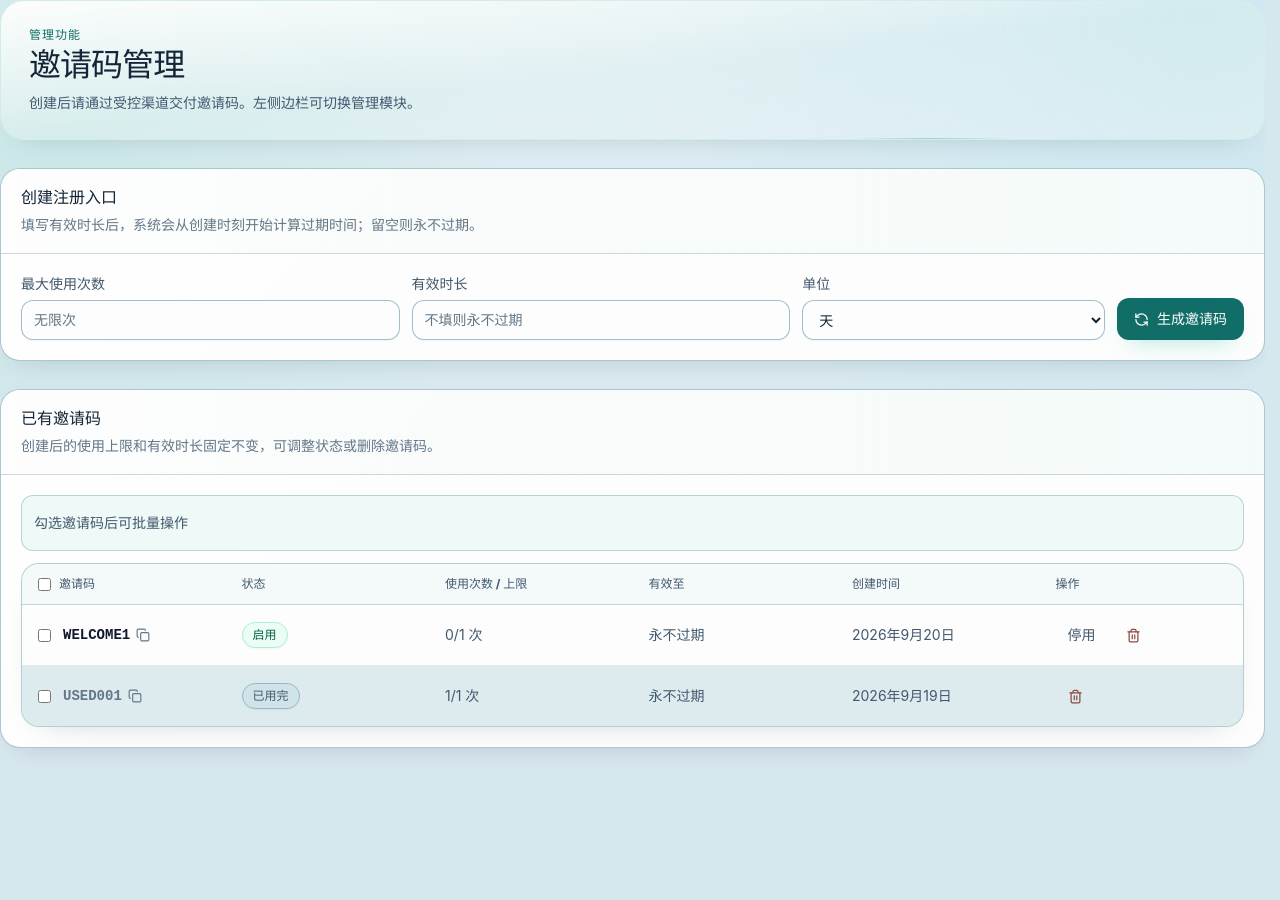
AdminInvitationsPage › falls back to a user-initiated copy command when Clipboard API is unavailable
The image size is (1280, 900).
Click the button with aria-label "复制邀请码 WELCOME1" at [107, 635], box [59,623,154,647]
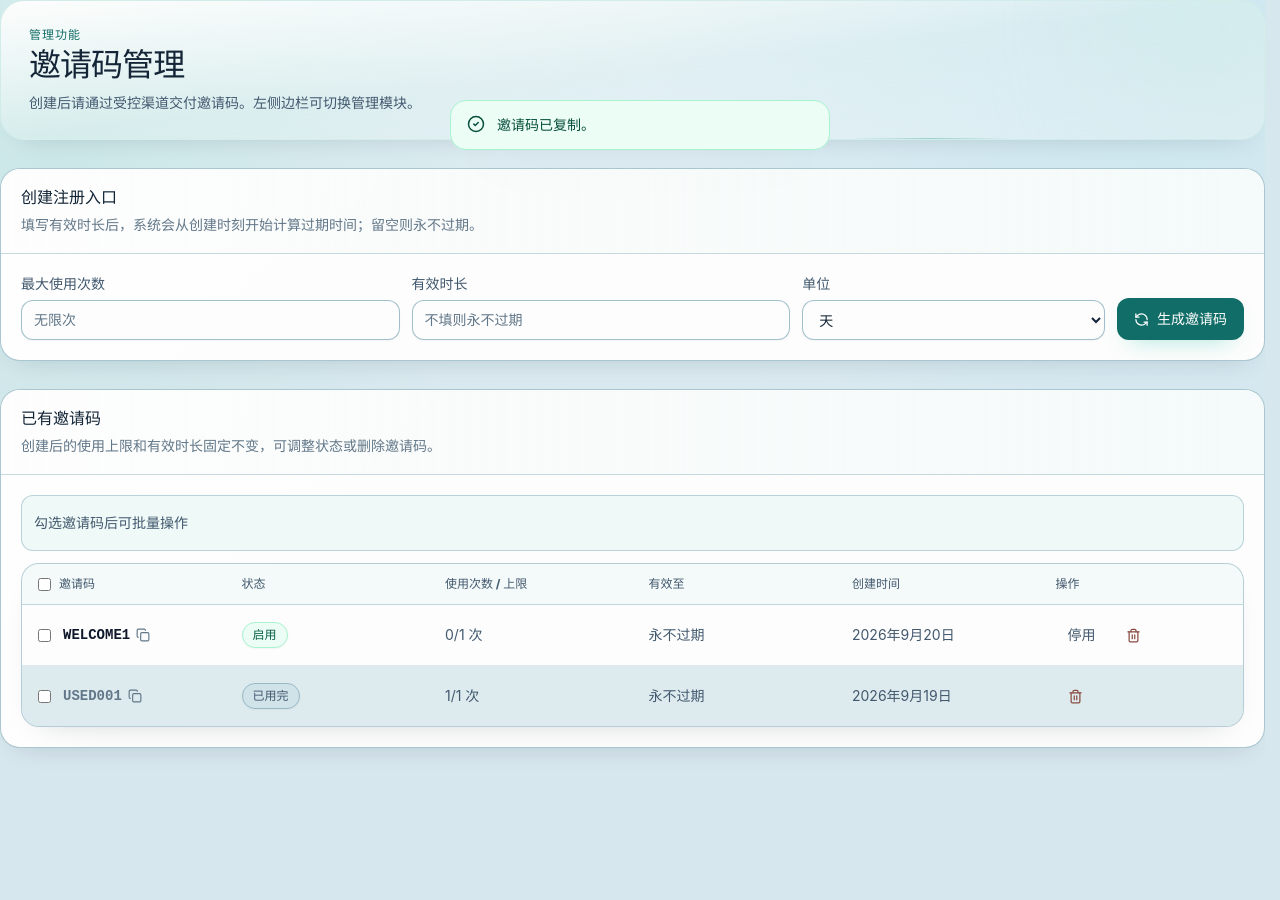
Expected: the text "邀请码已复制。" is shown, [497,113,595,137]
